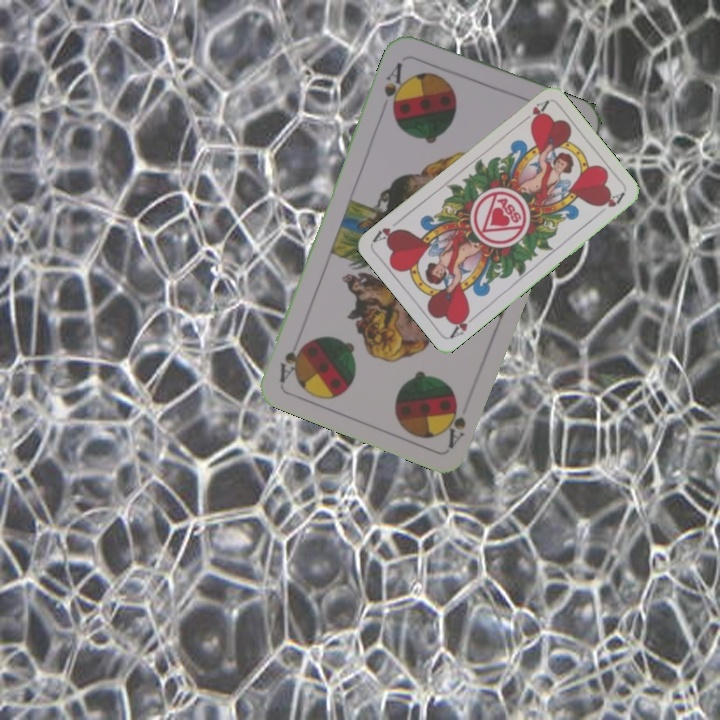HA: (446, 307, 480, 340), (516, 97, 551, 127)
SA: (379, 58, 410, 114), (440, 395, 469, 450)
